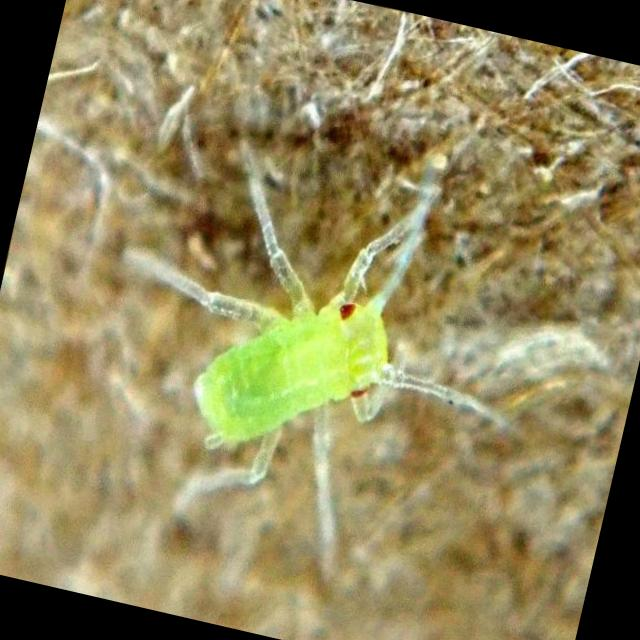aphid: (51, 62, 552, 582)
